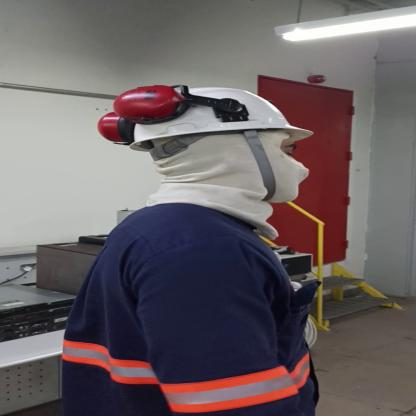Balaclava: (130, 132, 313, 236)
Capacete: (95, 82, 317, 143)
